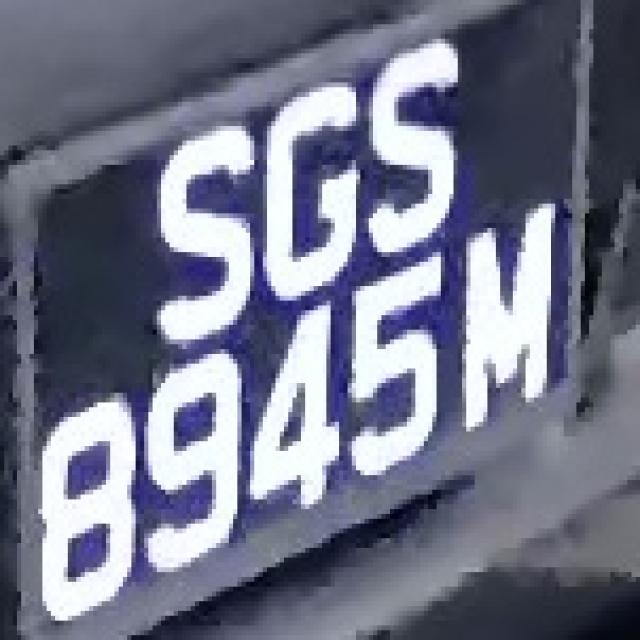4: (242, 305, 352, 519)
5: (326, 257, 445, 499)
8: (34, 383, 148, 621)
9: (132, 354, 258, 577)
G: (255, 77, 378, 296)
M: (454, 208, 576, 432)
S: (356, 24, 470, 267), (140, 107, 254, 349)
